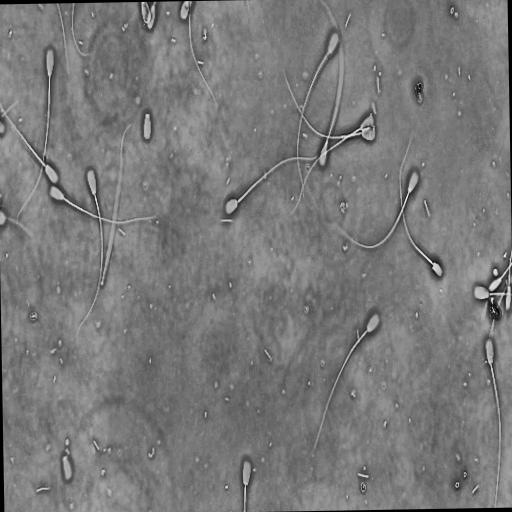dirt-particles: (488, 296, 503, 322), (413, 79, 424, 102)
loose-head: (142, 111, 152, 142)
loose-tail: (188, 1, 218, 106), (55, 3, 71, 77), (70, 3, 87, 57)
normal: (305, 303, 382, 459), (286, 112, 376, 217), (295, 25, 342, 204), (326, 166, 422, 253), (14, 46, 56, 230), (397, 134, 448, 282), (223, 148, 325, 220), (282, 68, 378, 142), (0, 93, 63, 188), (74, 164, 105, 351), (49, 183, 166, 226), (482, 329, 504, 507)
